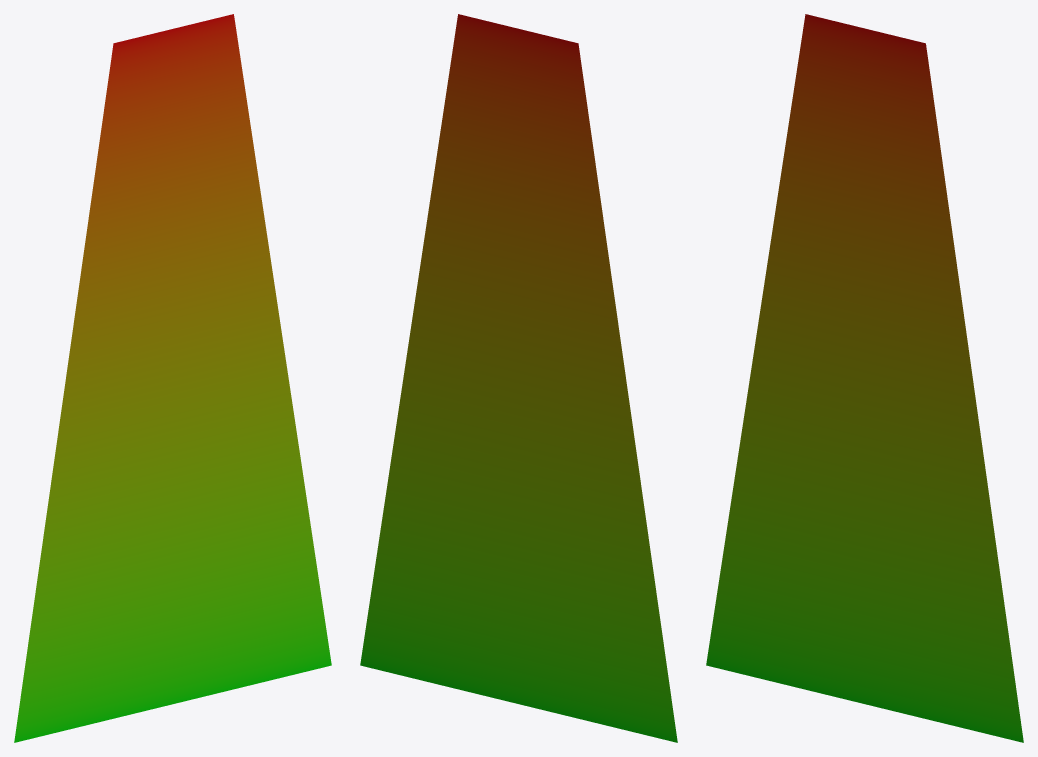
File: Var10_LOD4.fbx
3 renders of one model, left to right at view 1: azimuth 30°, elevation 25°; view 2: azimuth 150°, elevation 25°; view 3: azimuth 330°, elevation 25°, orthographic.
Visible parts, largest first — view 1: _pq6t_Var10_LOD4; view 2: _pq6t_Var10_LOD4; view 3: _pq6t_Var10_LOD4.
Part boxes in pixels (x1,y1,x2,y2): _pq6t_Var10_LOD4: (14,14,331,742); _pq6t_Var10_LOD4: (360,14,677,742); _pq6t_Var10_LOD4: (706,14,1023,742).
Bounding box in the file's own units: 8.48 × 17.23 × 3.05e-06.
